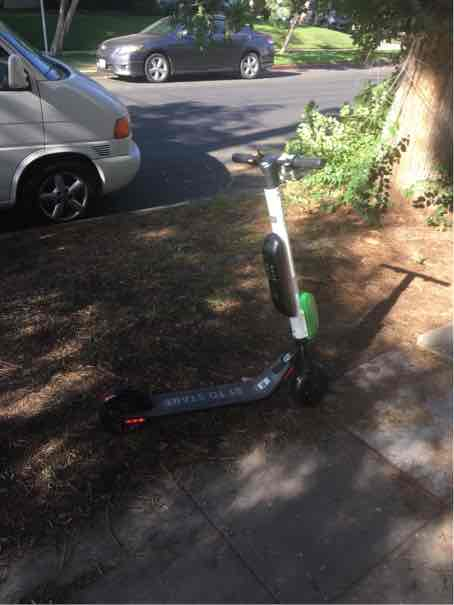scooter: (103, 128, 332, 441)
